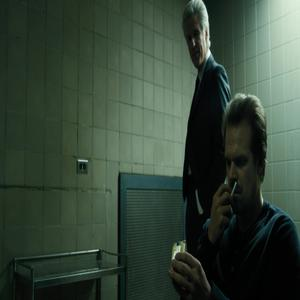cigarette: (228, 181, 238, 203)
